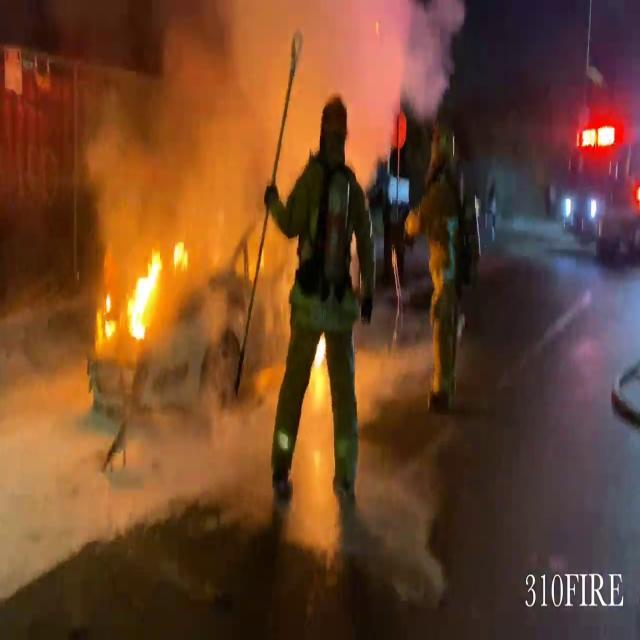Fire: (96, 235, 190, 346)
Smoke: (68, 1, 446, 232)
